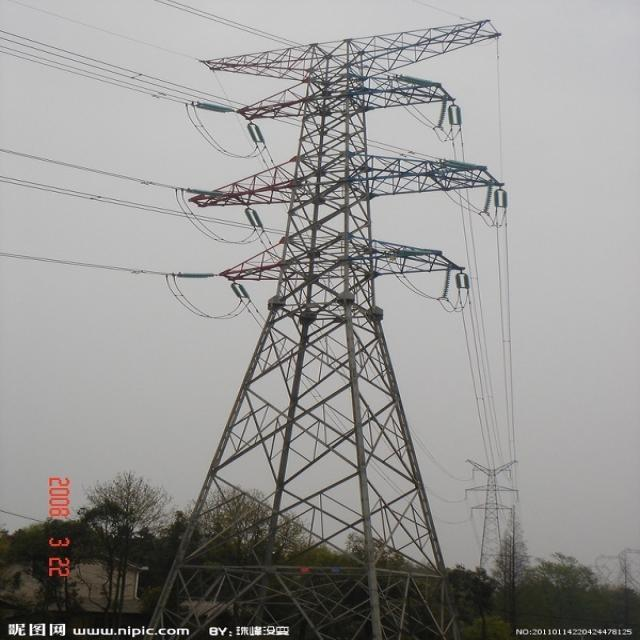non-critical vegetation: (173, 29, 483, 540)
